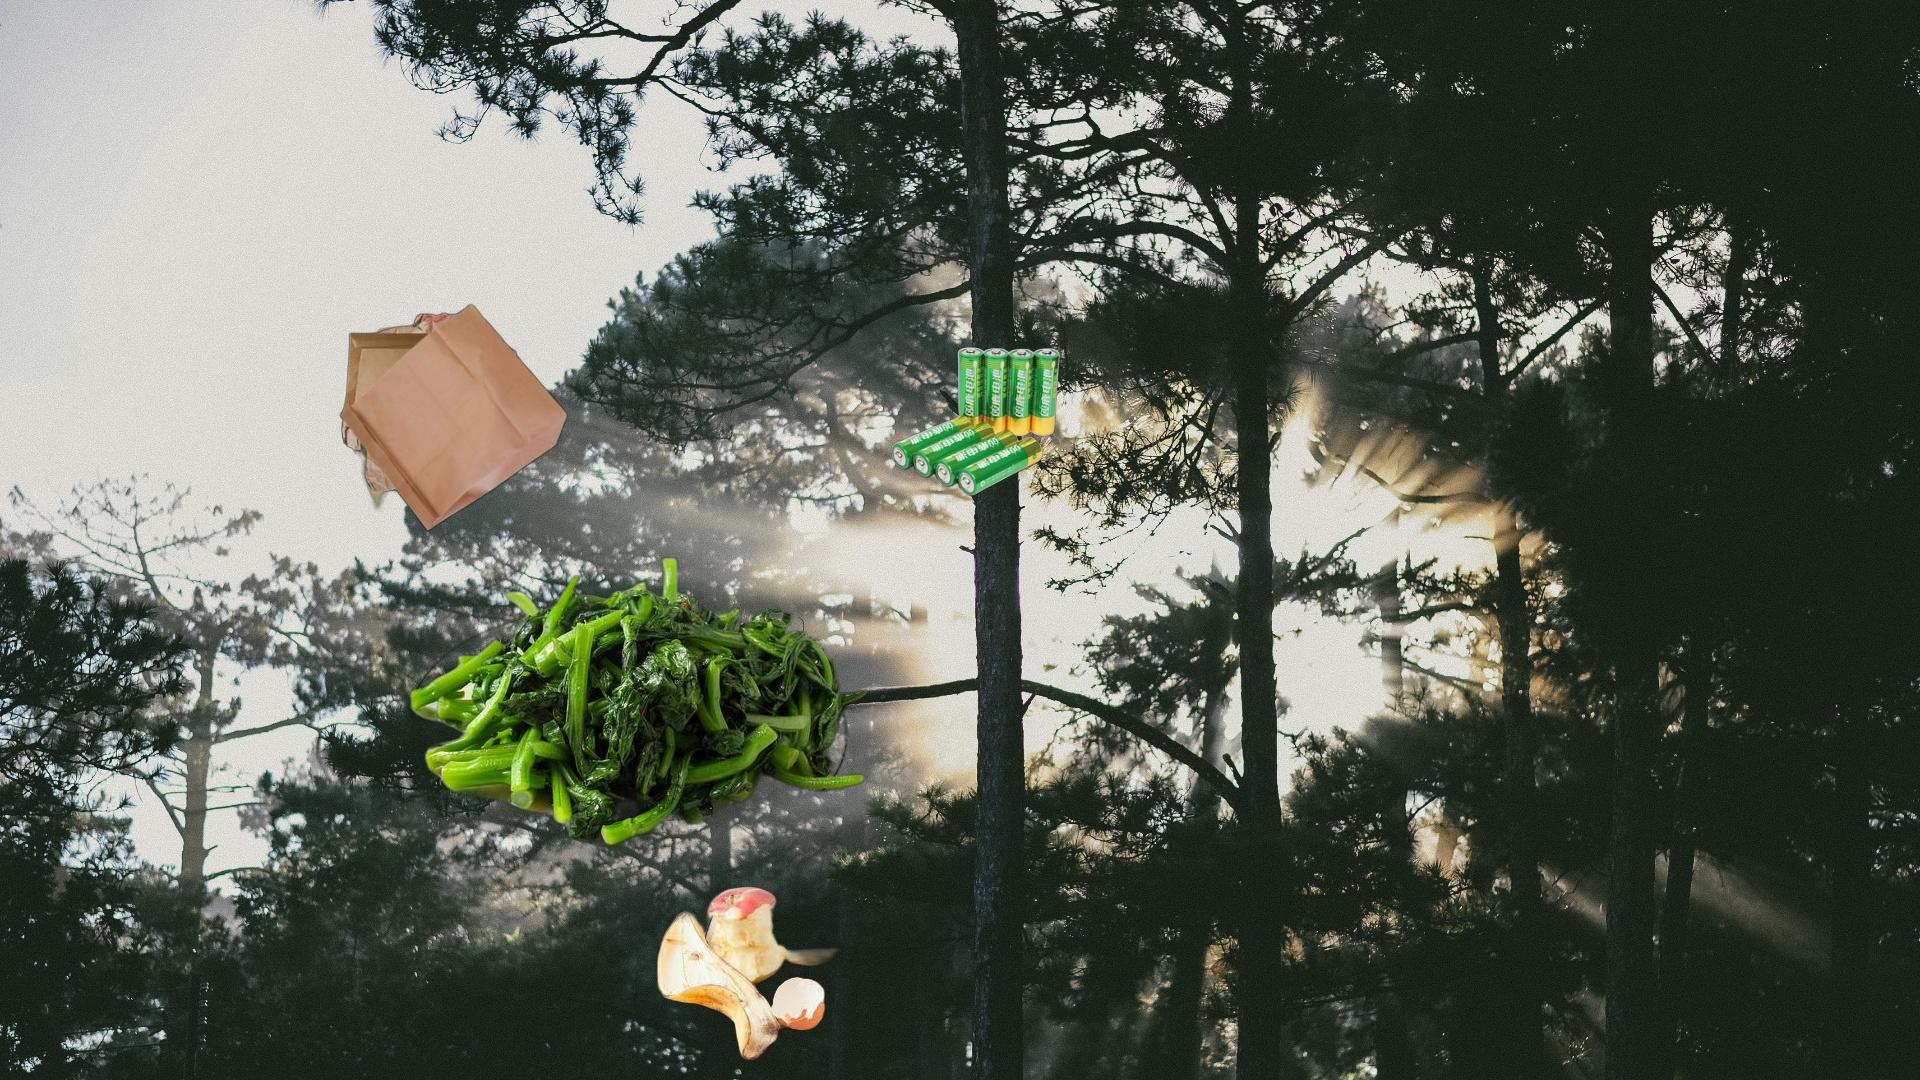battery: (887, 344, 1063, 498)
biological: (404, 553, 873, 851), (654, 885, 853, 1063)
paper-bag: (338, 301, 570, 531)
